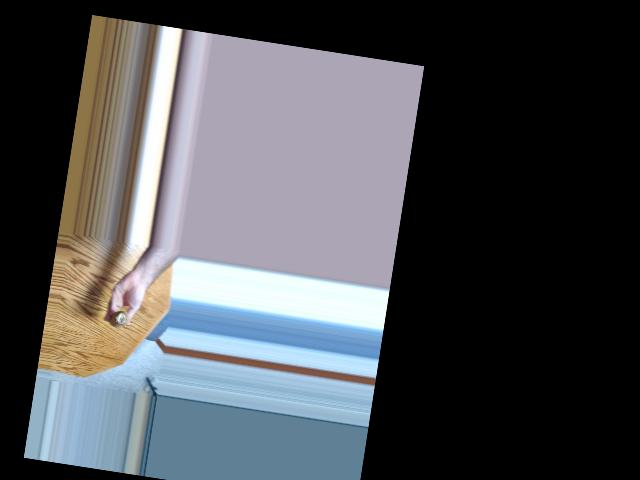sweet_potato: (112, 310, 131, 332)
